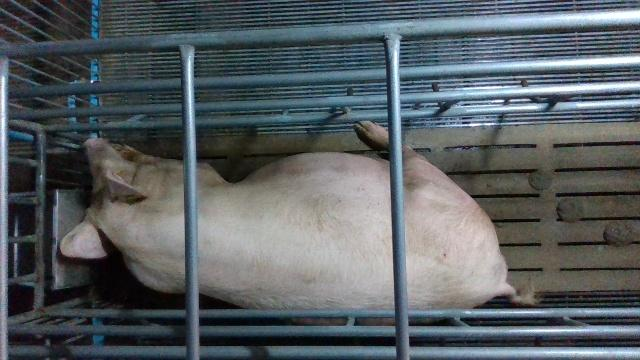sow-sit: (59, 121, 531, 326)
